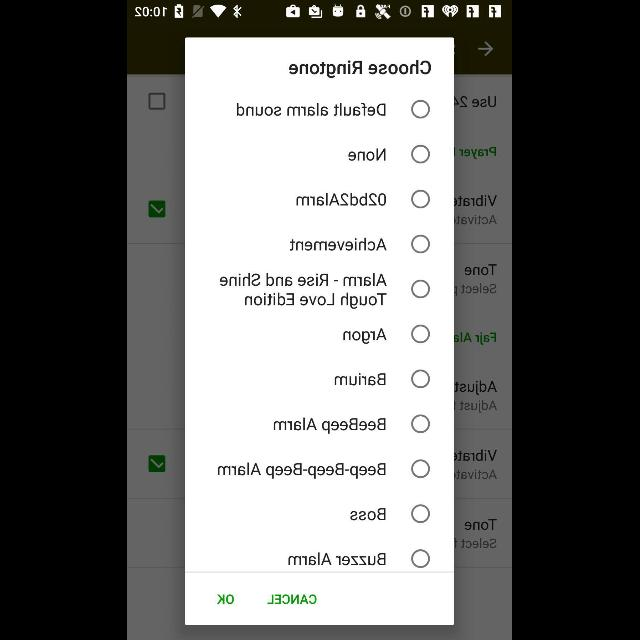checkbox: (412, 280, 432, 298), (413, 324, 431, 344), (412, 504, 430, 524), (412, 550, 431, 568), (412, 100, 430, 118), (412, 145, 430, 163), (412, 190, 430, 208), (412, 235, 430, 253), (412, 370, 430, 388), (413, 415, 431, 433), (412, 460, 430, 478)
icon: (479, 42, 495, 56)
panel: (186, 38, 454, 624)
text: (220, 273, 388, 309), (218, 463, 386, 479), (290, 60, 432, 78), (238, 103, 386, 117), (274, 418, 386, 434), (289, 552, 387, 566), (290, 238, 388, 250), (297, 194, 387, 206), (344, 328, 388, 344), (336, 372, 386, 386), (349, 148, 386, 162), (268, 594, 318, 604), (351, 508, 387, 520), (218, 594, 235, 604)
textbutton: (268, 594, 318, 604), (218, 594, 235, 604)
uppertaskbar: (128, 1, 512, 23)
